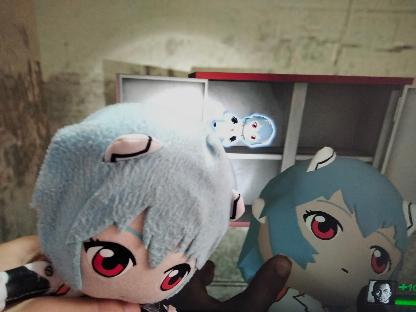rei-plush: (0, 108, 246, 311), (231, 150, 415, 312)
